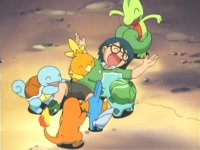mudkip: (82, 80, 113, 133)
